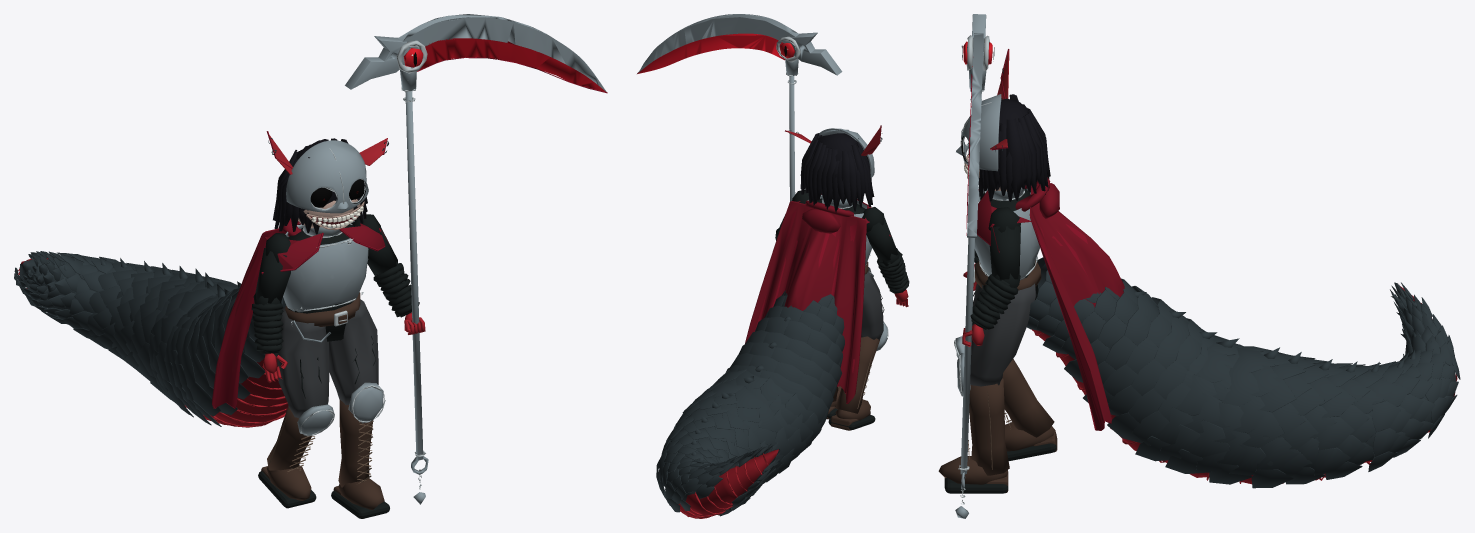
The model's file is jefrie-hand-built-b.glb.
3 renders of one model, left to right at view 1: azimuth 30°, elevation 25°; view 2: azimuth 150°, elevation 25°; view 3: azimuth 270°, elevation 25°, orthographic. The views are drawn at different scales.
Parts seen in each view (by area): view 1: toy; view 2: toy; view 3: toy.
Boxes of the visible parts, left/top/right/bottom form: toy: left=14, top=14, right=607, bottom=518; toy: left=637, top=14, right=909, bottom=518; toy: left=938, top=14, right=1460, bottom=518.
Bounding box in the file's own units: 0.8472 × 0.998 × 0.9622.
